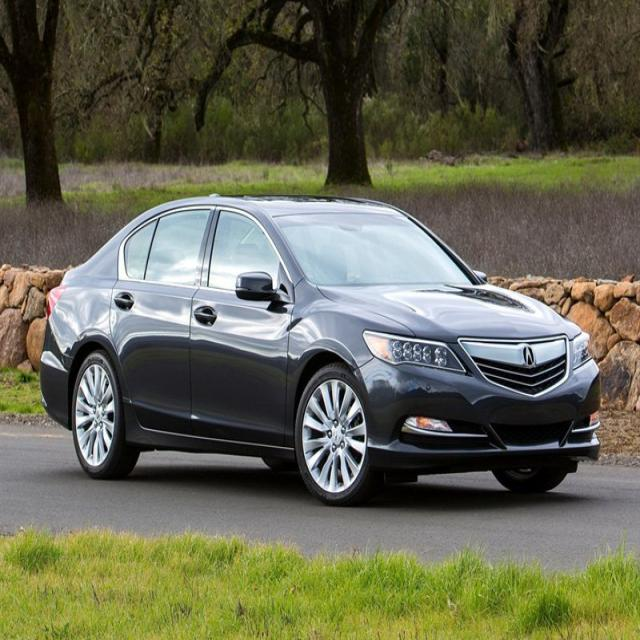back_right_side_light: (45, 283, 72, 319)
door: (105, 208, 213, 444)
front_bumper: (348, 353, 602, 468)
front_glass: (269, 210, 480, 291)
front_left_side_light: (569, 329, 595, 372)
front_right_side_door: (186, 198, 301, 447)
front_right_side_light: (362, 328, 467, 377)
front_right_side_mirror: (235, 269, 291, 316)
wheel: (292, 354, 392, 507), (70, 334, 141, 480)
